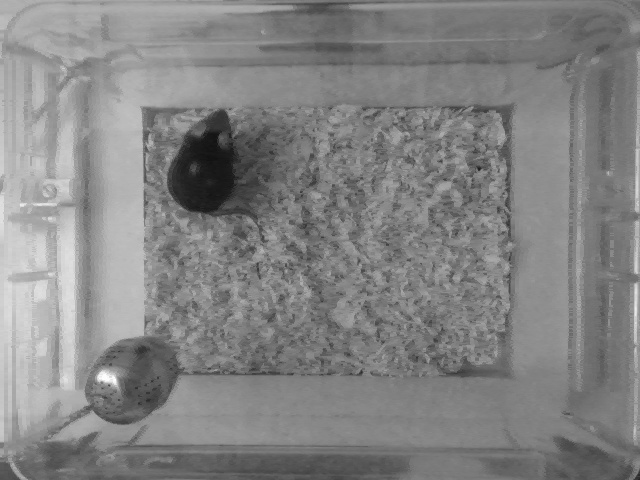mice: (166, 104, 273, 239)
